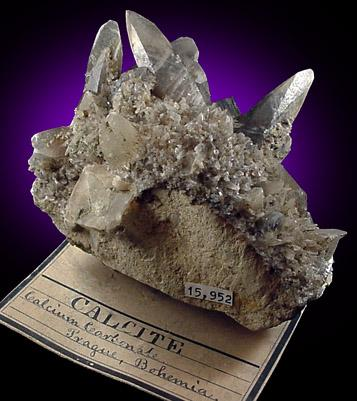calcite: (29, 11, 345, 308)
